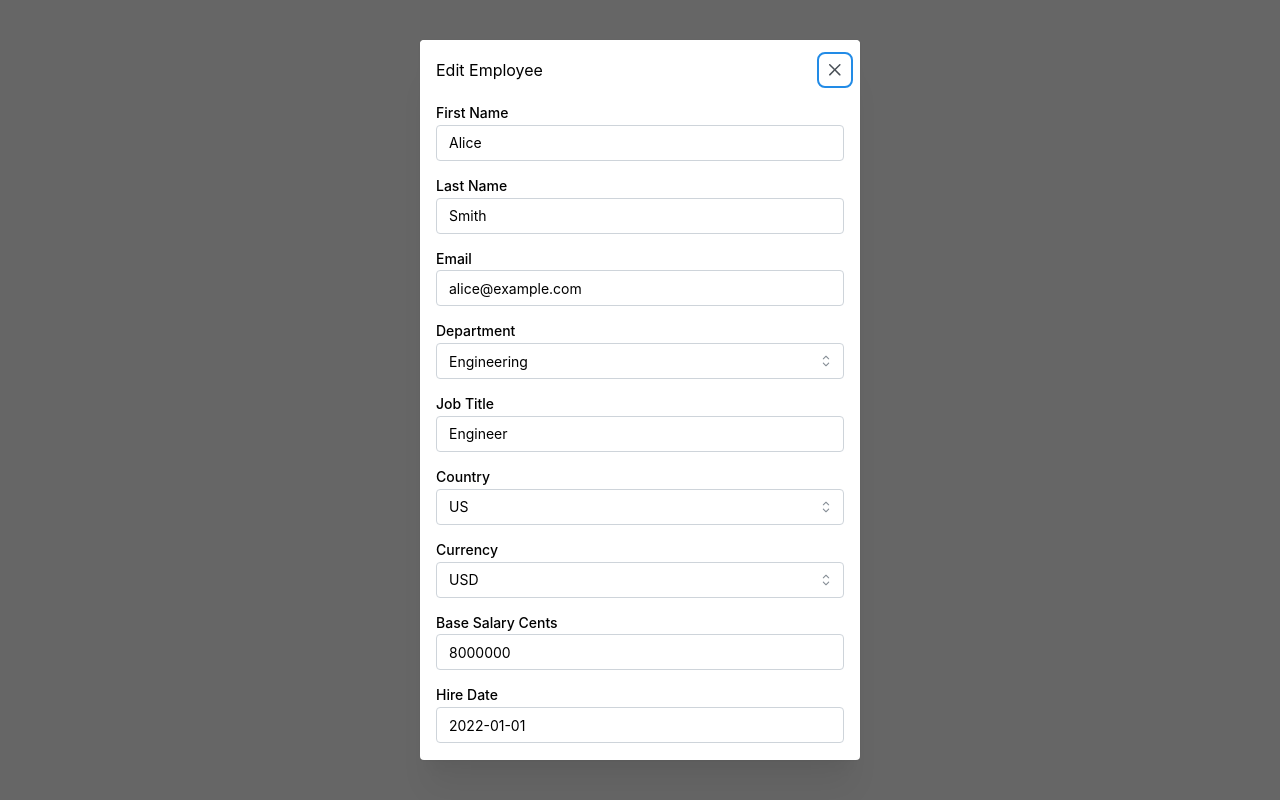
Test: EmployeeFormModal › 9. updateEmployee rejection: shows error alert and does not close modal
Step 1. Replace the text in the field labelled "First Name" with "Robert" → x=640, y=143, box [436,125,844,161]
(page scrolled)
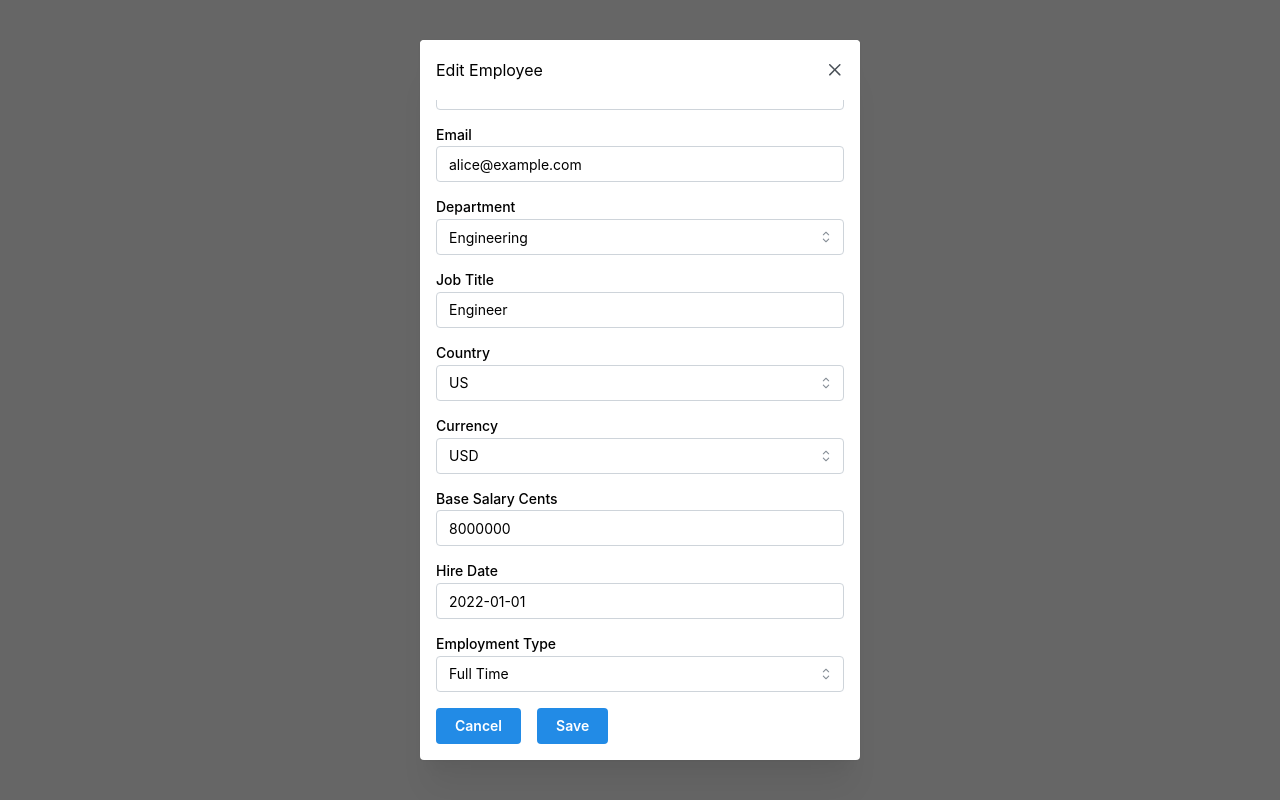
Step 2. Click the button "Save" → x=573, y=726, box [537,708,608,744]
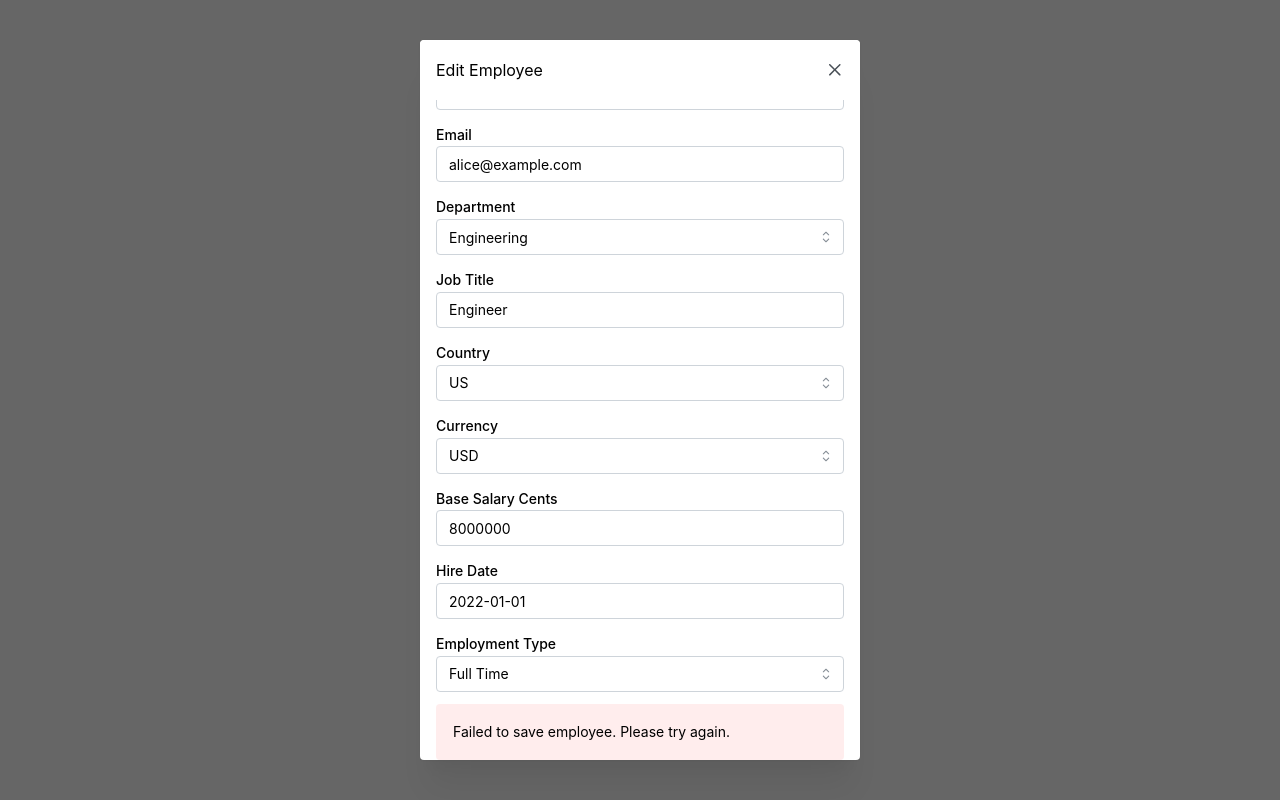
Result: the message "Failed to save employee. Please try again." is shown at [436,704,844,760]
